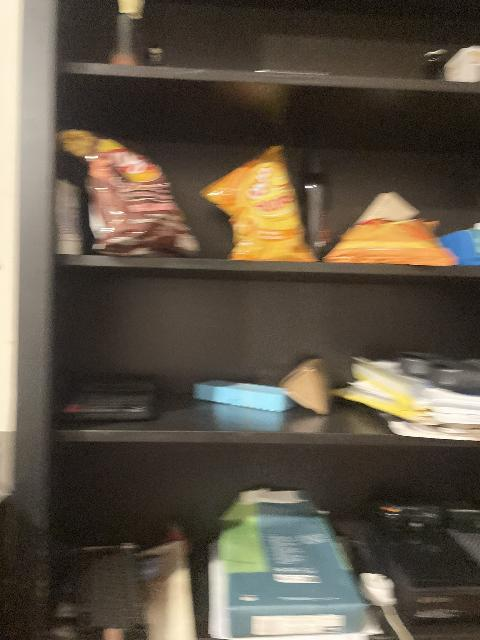Chio Cascaval 125g: (320, 190, 457, 265)
Chio Hula Hoops Cheese 70g: (199, 144, 321, 262)
Lays Beef Grilled Ribs 125g: (58, 130, 199, 257)
